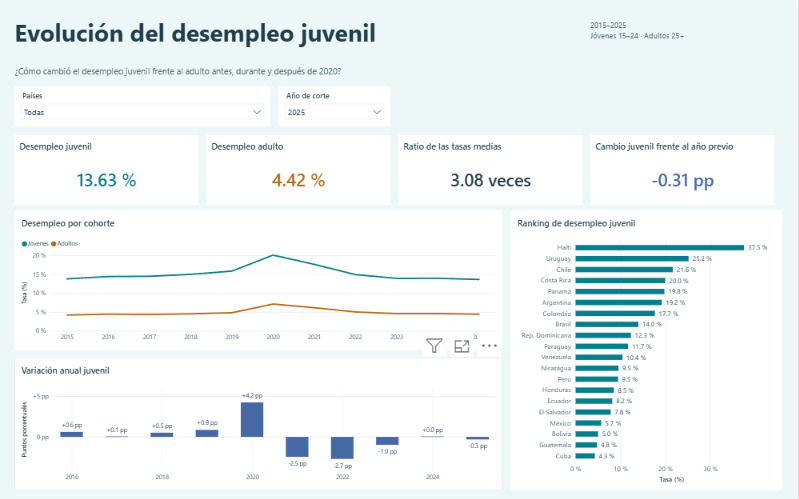

Layout of this report page (visuals, bound fields, positions):
{"tool":"powerbi","page":{"name":"01 Desempleo","canvas":[1600,1000],"ordinal":0},"visuals":[{"type":"textbox","box":[31.8,31.8,1536.5,65.3],"z":5000},{"type":"textbox","box":[32,132,1536,29],"z":6000},{"type":"slicer","fields":{"Values":["Paises.País"]},"box":[32,174,512,80],"z":7000},{"type":"slicer","fields":{"Values":["Corte.Año"]},"box":[560,174,224,80],"z":8000},{"type":"textbox","box":[1184,42,383.7,55.3],"z":9000},{"type":"card","title":"Desempleo juvenil","fields":{"Values":["Observaciones.Desempleo juvenil"]},"box":[32,272,368,140],"z":11000},{"type":"card","title":"Desempleo adulto","fields":{"Values":["Observaciones.Desempleo adulto"]},"box":[416,272,368,140],"z":12000},{"type":"card","title":"Ratio de las tasas medias","fields":{"Values":["Observaciones.Ratio juvenil adulto"]},"box":[800,272,368,140],"z":13000},{"type":"card","title":"Cambio juvenil frente al año previo","fields":{"Values":["Observaciones.Variación anual juvenil"]},"box":[1184,272,368,140],"z":14000},{"type":"lineChart","title":"Desempleo por cohorte","fields":{"Category":["Anios.Año"],"Y":["Observaciones.Jóvenes","Observaciones.Adultos"]},"box":[32,422,976,280],"z":15000},{"type":"clusteredColumnChart","title":"Variación anual juvenil","fields":{"Category":["Anios.Año"],"Y":["Observaciones.Cambio anual juvenil"]},"box":[32,716,976,266],"z":16000},{"type":"clusteredBarChart","title":"Ranking de desempleo juvenil","fields":{"Category":["Paises.País"],"Y":["Observaciones.Desempleo juvenil"]},"box":[1024,422,544,560],"z":17000}]}

Visuals, with their boxes in screenshot pixels (x1, y1, x2, y2), scaled from the page's 1600x1000 canvas onto the 799x499 screenshot:
textbox: bbox=[16, 16, 783, 48]
textbox: bbox=[16, 66, 783, 80]
slicer - Paises.País: bbox=[16, 87, 272, 127]
slicer - Corte.Año: bbox=[280, 87, 392, 127]
textbox: bbox=[591, 21, 783, 49]
"Desempleo juvenil" card: bbox=[16, 136, 200, 206]
"Desempleo adulto" card: bbox=[208, 136, 392, 206]
"Ratio de las tasas medias" card: bbox=[400, 136, 583, 206]
"Cambio juvenil frente al año previo" card: bbox=[591, 136, 775, 206]
"Desempleo por cohorte" lineChart: bbox=[16, 211, 503, 350]
"Variación anual juvenil" clusteredColumnChart: bbox=[16, 357, 503, 490]
"Ranking de desempleo juvenil" clusteredBarChart: bbox=[511, 211, 783, 490]
